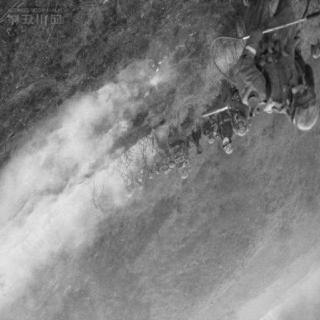Smoke: (7, 130, 89, 254)
other: (200, 3, 318, 169)
